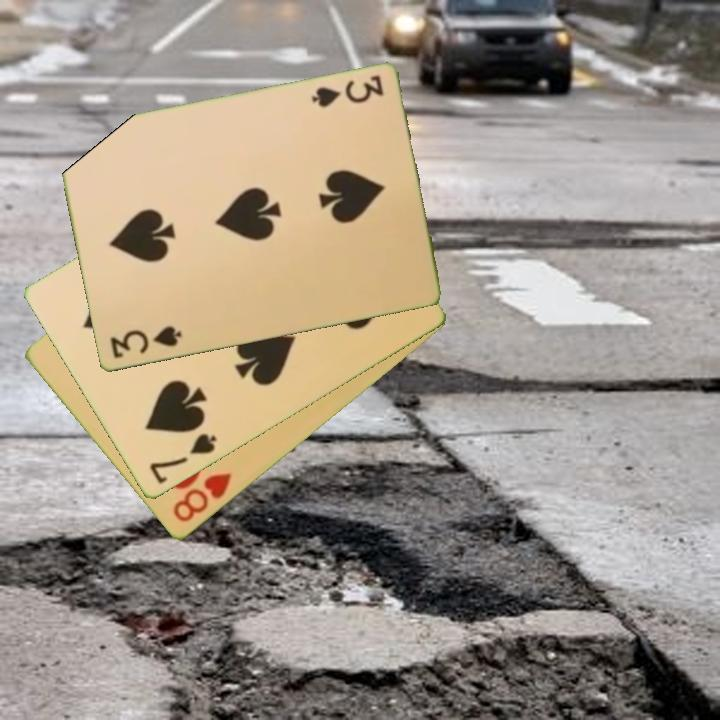3s: (106, 322, 184, 362), (307, 72, 386, 111)
7s: (145, 430, 220, 488)
8h: (169, 469, 234, 526)
